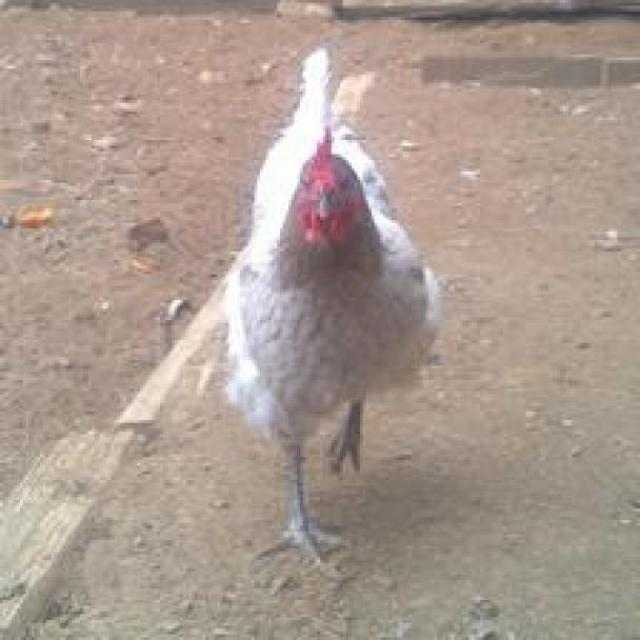Chicken: (196, 42, 540, 585)
